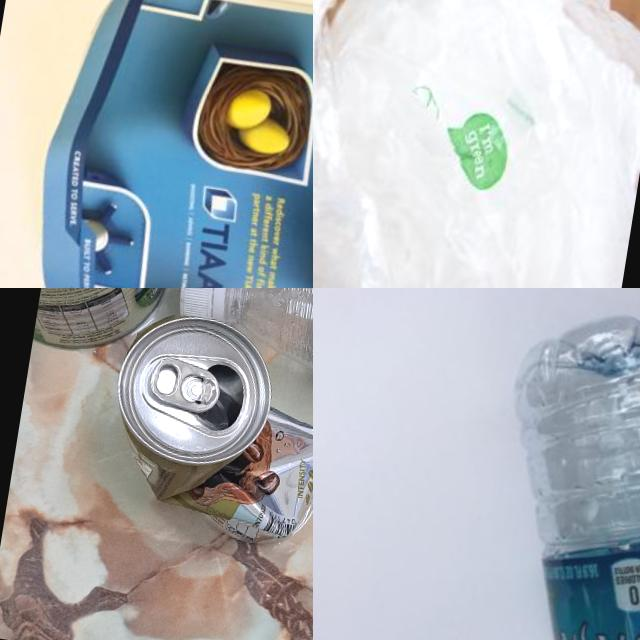aba de lata: (146, 358, 222, 416)
garrafa plástica: (456, 288, 640, 640)
lata: (96, 306, 313, 550), (32, 288, 199, 362)
papel: (12, 0, 313, 288)
sacola plástica: (313, 0, 640, 288)
tampa plástica: (175, 288, 235, 324)
